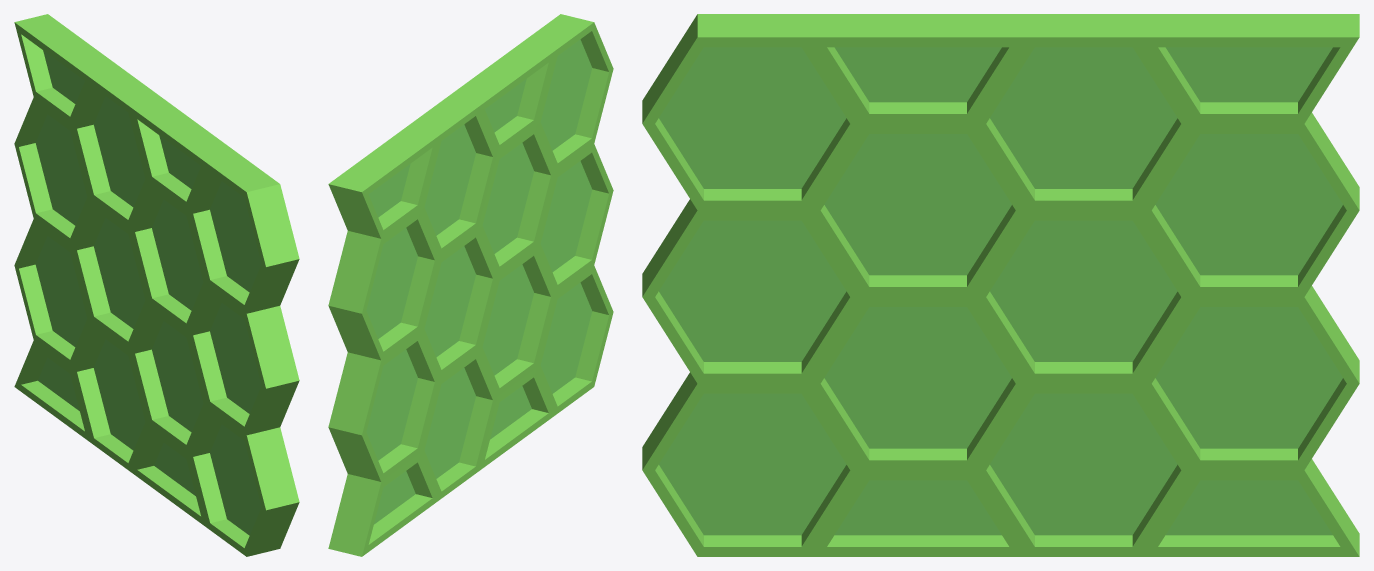
Rendered from cell_wall.fbx.
3 views of the same model, side by side, from view 1: azimuth 30°, elevation 25°; view 2: azimuth 150°, elevation 25°; view 3: azimuth 270°, elevation 25° (orthographic). The views are drawn at different scales.
Visible parts, largest first — view 1: Circle; view 2: Circle; view 3: Circle.
Boxes of the visible parts, left/top/right/bottom form: Circle: left=14, top=14, right=299, bottom=556; Circle: left=328, top=14, right=613, bottom=556; Circle: left=642, top=14, right=1359, bottom=556.
Bounding box in the file's own units: 50 × 520 × 650.
